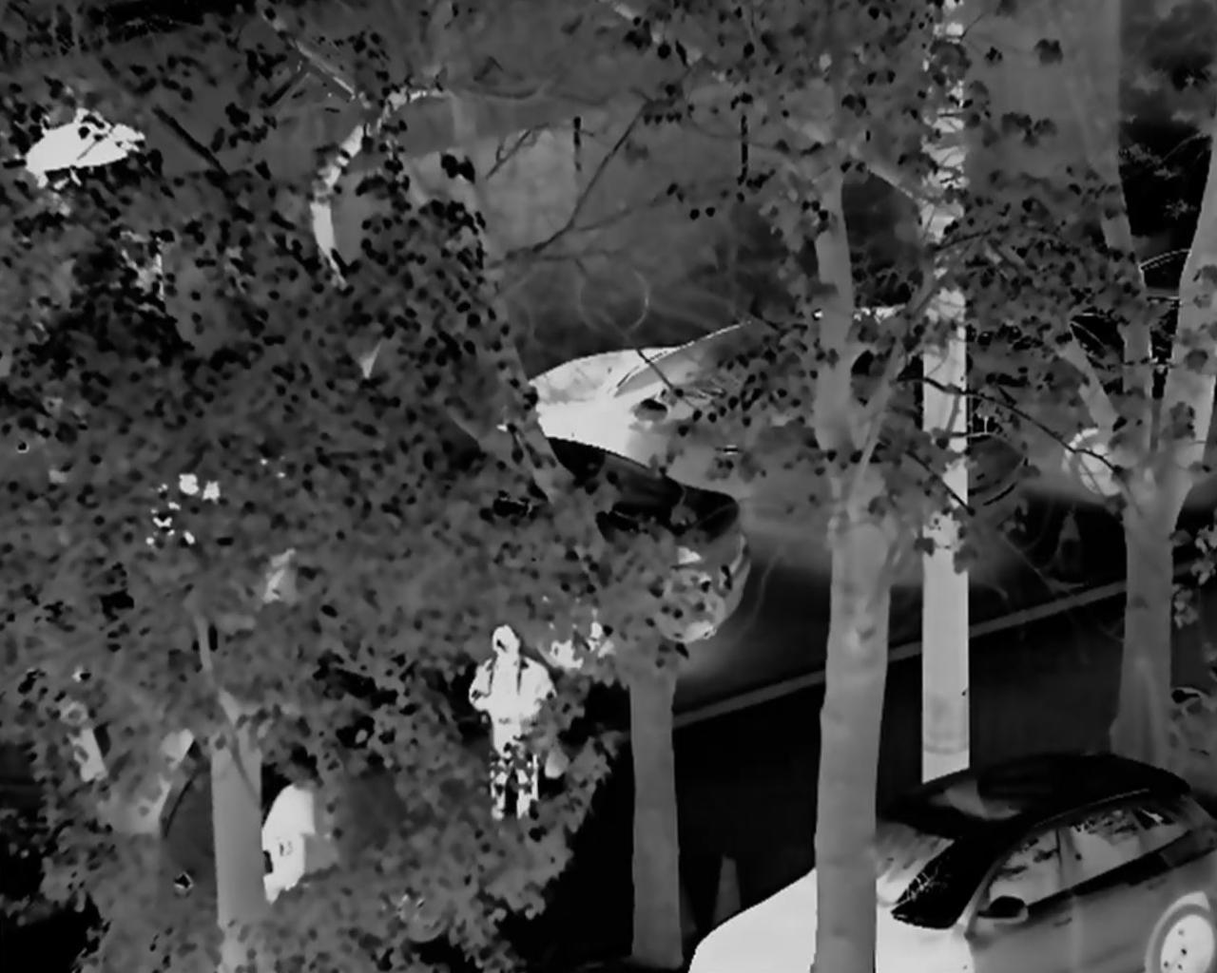person: (471, 623, 553, 853)
